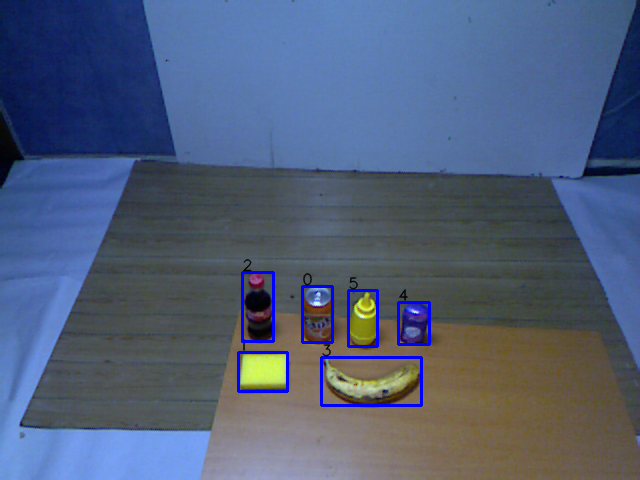coca: (240, 270, 276, 345)
desodorante: (395, 300, 433, 351)
esponja: (236, 351, 293, 395)
lata: (298, 282, 339, 347)
mostaza: (345, 289, 387, 351)
platano: (316, 351, 425, 410)
